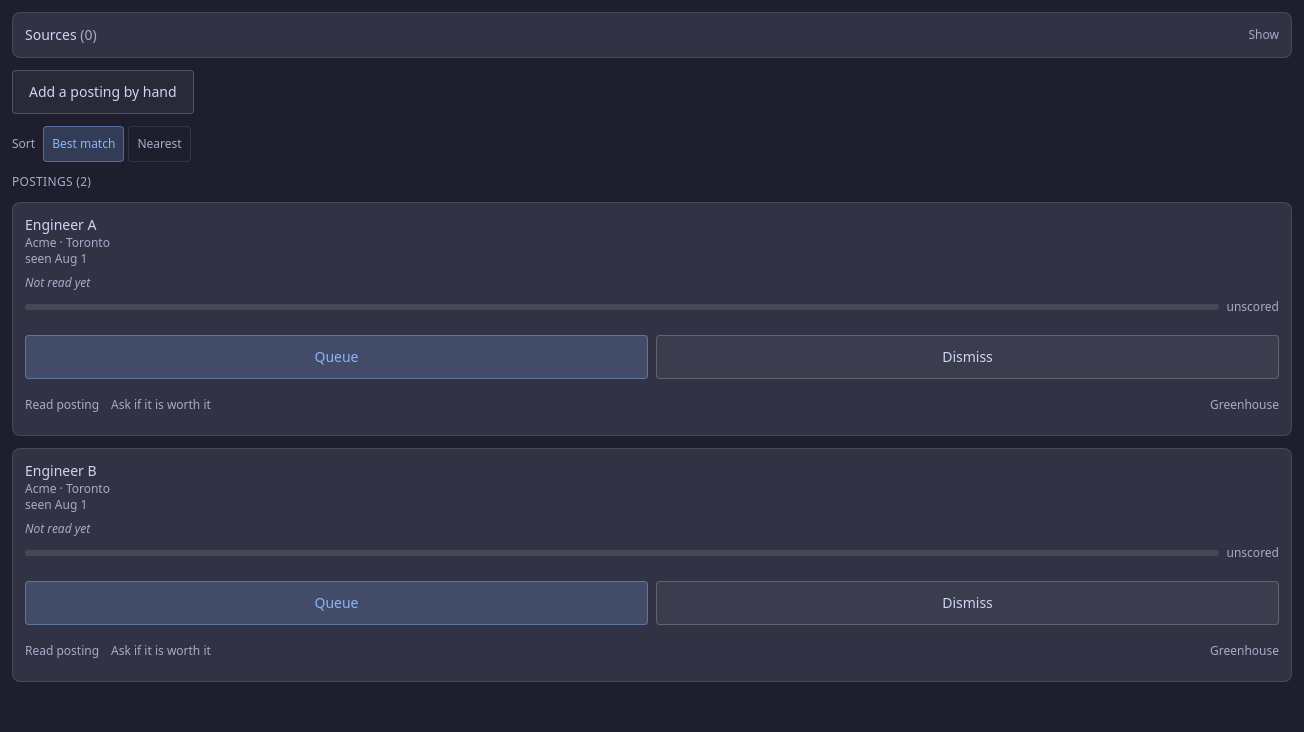
Test: Feed decisions › drops the card on the tap, not on the response
The image size is (1304, 732).
Expected: the text "Engineer A" is shown, left=25, top=215, right=96, bottom=234
Click the button "Queue" below "Engineer A": (336, 357) left=25, top=335, right=648, bottom=379
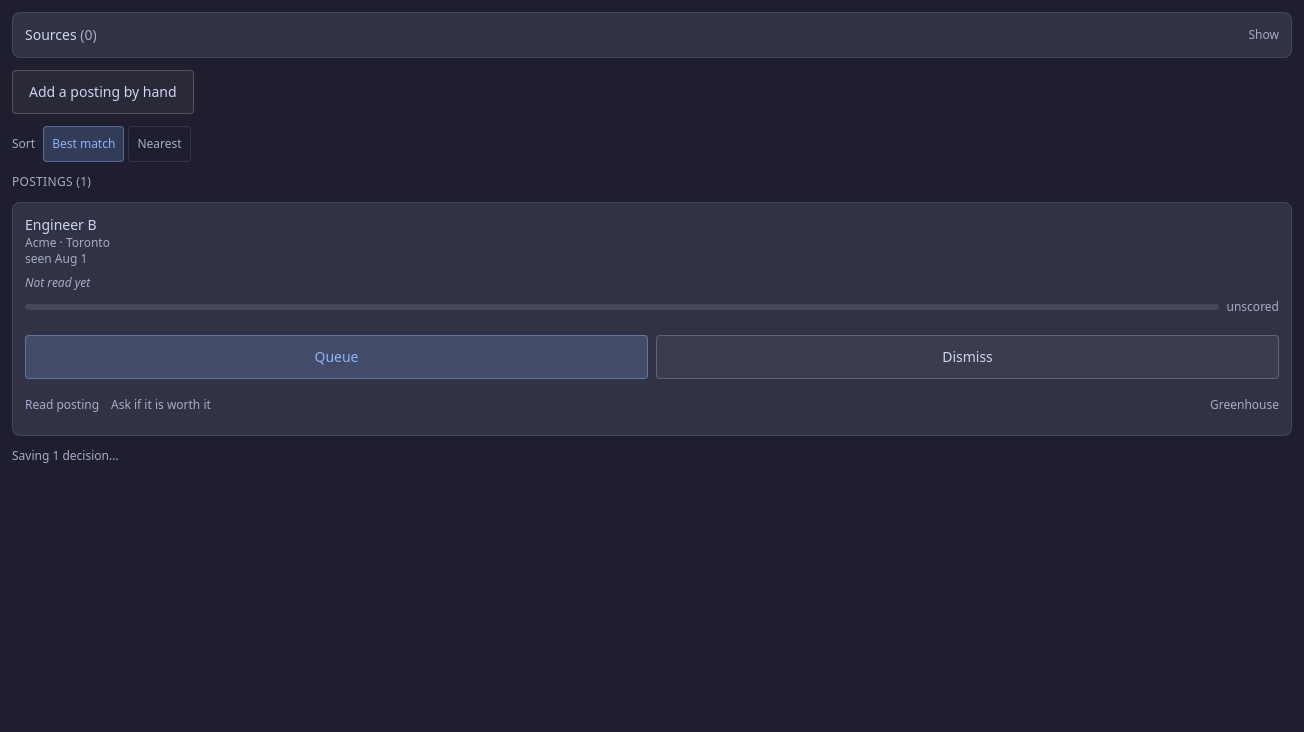
Expected: the text "Engineer B" is shown, left=25, top=215, right=97, bottom=234
Expected: the text "Engineer A" is gone
Expected: the text "Saving 1 decision…" is shown, left=12, top=447, right=118, bottom=464
